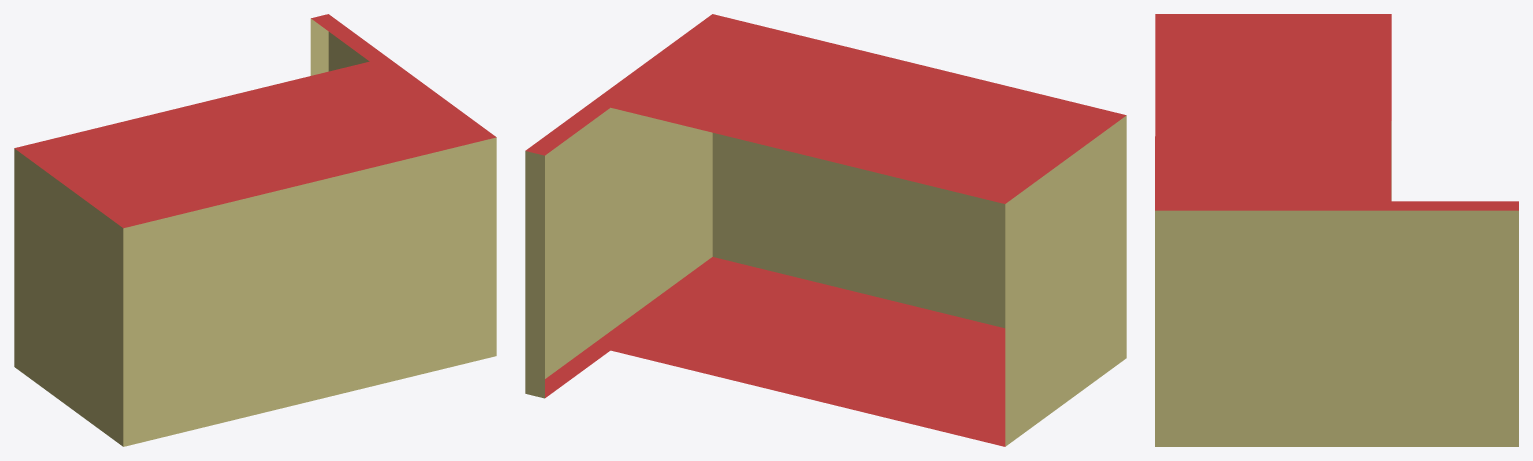
The picture shows the model from 3 angles, left to right: view 1: azimuth 30°, elevation 25°; view 2: azimuth 150°, elevation 25°; view 3: azimuth 270°, elevation 25°; orthographic projection. The views are drawn at different scales.
Bounding box in the file's own units: 8.31 × 6.5 × 4.65.
